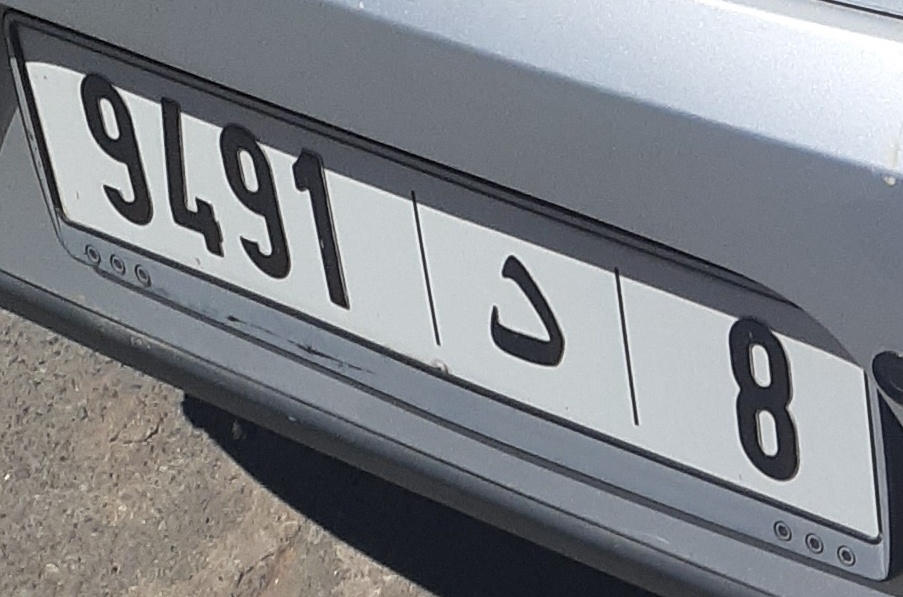1: (284, 143, 355, 312)
4: (157, 91, 227, 262)
8: (720, 296, 804, 487)
9: (66, 64, 161, 236), (216, 113, 297, 279)
d: (473, 236, 579, 373)
